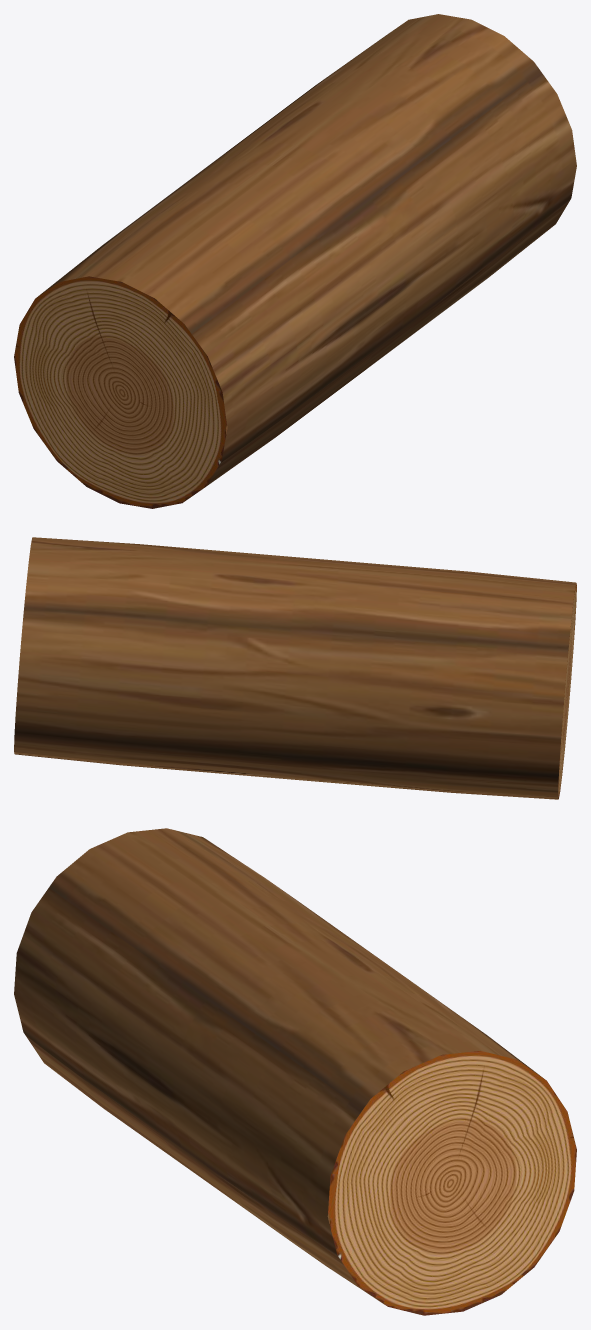
Rendered from Log.fbx.
The picture shows the model from 3 angles, top to bottom: view 1: azimuth 30°, elevation 25°; view 2: azimuth 150°, elevation 25°; view 3: azimuth 270°, elevation 25°; orthographic projection. The views are drawn at different scales.
Visible parts, largest first — view 1: pCylinder1; view 2: pCylinder1; view 3: pCylinder1.
Part boxes in pixels (x1,y1,x2,y2): pCylinder1: (14, 14, 576, 508); pCylinder1: (14, 537, 576, 799); pCylinder1: (14, 828, 576, 1315).
Size of the model in its own units: 5.26 by 2.27 by 3.95.
2 materials, 2 textured.
